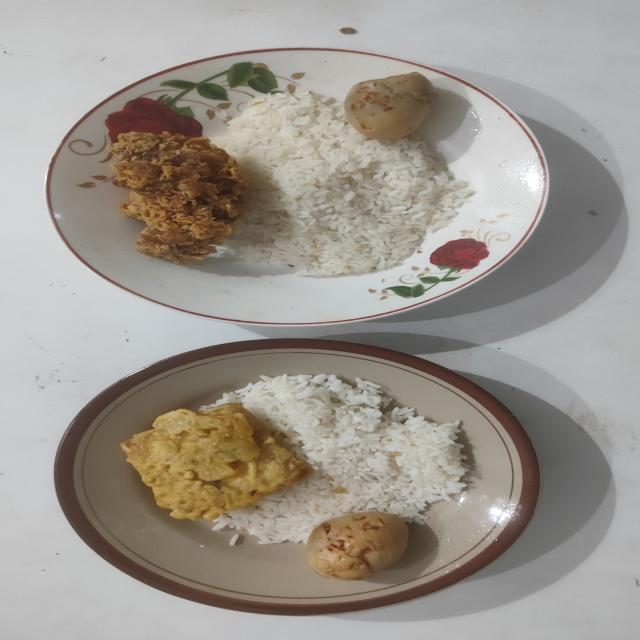nasi_putih: (219, 90, 472, 277), (200, 374, 472, 544)
